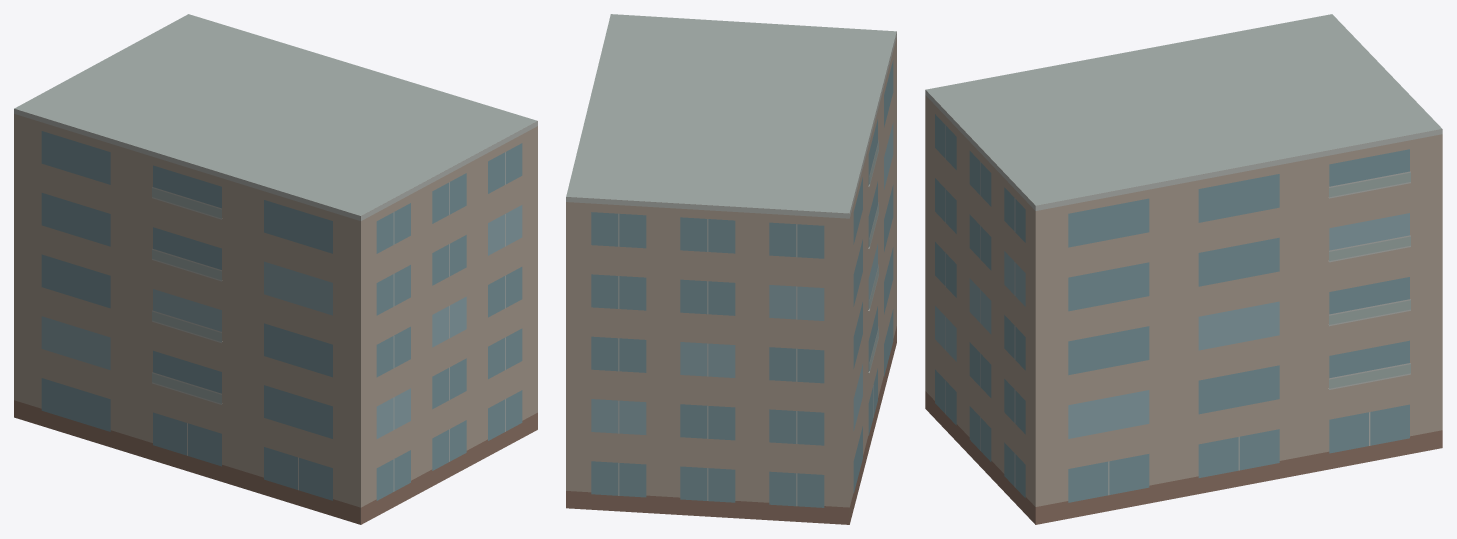
Rendered from survey-upis-32949359.glb.
3 views of the same model, side by side, from view 1: azimuth 30°, elevation 25°; view 2: azimuth 150°, elevation 25°; view 3: azimuth 270°, elevation 25° (orthographic). The views are drawn at different scales.
Visible parts, largest first — view 1: survey-upis-32949359.tmp; view 2: survey-upis-32949359.tmp; view 3: survey-upis-32949359.tmp.
Boxes of the visible parts, x1,y1,x2,y2 form: survey-upis-32949359.tmp: (14,14,537,524); survey-upis-32949359.tmp: (566,14,896,524); survey-upis-32949359.tmp: (925,14,1442,524).
Bounding box in the file's own units: 18.83 × 14.6 × 21.45.
